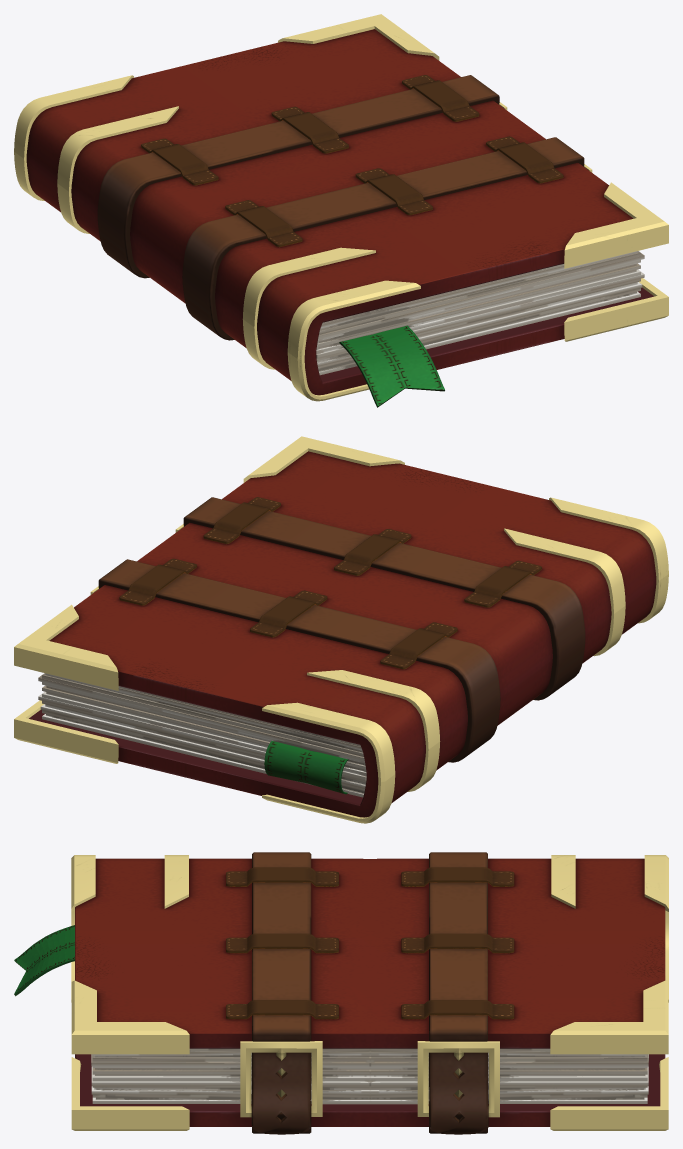
The model's file is book.gltf.
3 renders of one model, top to bottom at view 1: azimuth 30°, elevation 25°; view 2: azimuth 150°, elevation 25°; view 3: azimuth 270°, elevation 25°, orthographic. The views are drawn at different scales.
Parts seen in each view (by area): view 1: Book, Couro Fivela, Detalhes Ferro, Book.001, Flaps, BezierCurve; view 2: Book, Couro Fivela, Detalhes Ferro, Book.001, Flaps, BezierCurve; view 3: Book, Couro Fivela, Detalhes Ferro, Book.001, Flaps, Fivela, BezierCurve.
Part boxes in pixels (x1=…): Book: x1=26, y1=29, x2=653, y2=395; Couro Fivela: x1=97, y1=75, x2=584, y2=340; Detalhes Ferro: x1=14, y1=14, x2=668, y2=401; Book.001: x1=316, y1=251, x2=644, y2=375; Flaps: x1=141, y1=75, x2=563, y2=247; BezierCurve: x1=339, y1=325, x2=444, y2=407; Book: x1=29, y1=451, x2=656, y2=817; Couro Fivela: x1=98, y1=497, x2=585, y2=762; Detalhes Ferro: x1=14, y1=436, x2=668, y2=823; Book.001: x1=38, y1=673, x2=366, y2=797; Flaps: x1=119, y1=497, x2=541, y2=669; BezierCurve: x1=264, y1=741, x2=348, y2=794; Book: x1=75, y1=858, x2=665, y2=1126; Couro Fivela: x1=251, y1=852, x2=488, y2=1134; Detalhes Ferro: x1=71, y1=855, x2=668, y2=1130; Book.001: x1=91, y1=1048, x2=648, y2=1104; Flaps: x1=226, y1=867, x2=514, y2=1019; Fivela: x1=240, y1=1041, x2=499, y2=1117; BezierCurve: x1=14, y1=925, x2=74, y2=996.
Bounding box in the file's own units: 503 × 128 × 703.
Materials: 7 (7 with a texture image).
